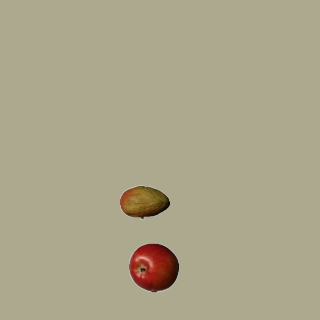Apple Braeburn: (128, 242, 178, 292)
Papaya: (119, 177, 169, 227)
